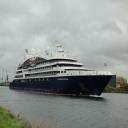cruises: (10, 41, 116, 101)
